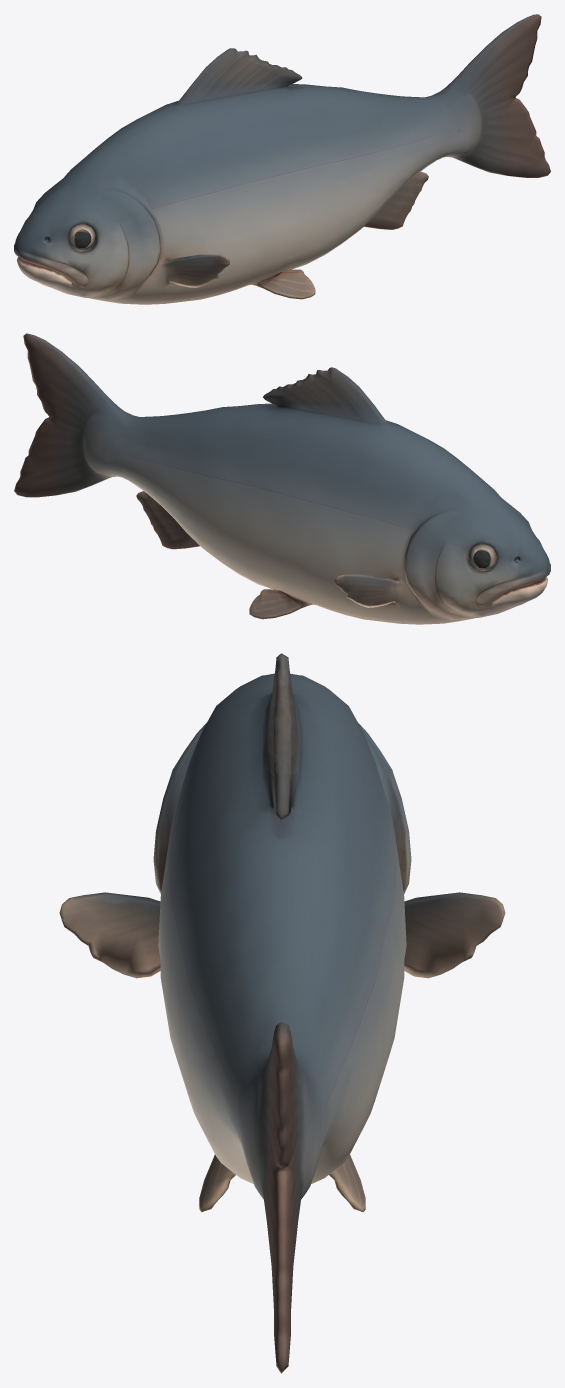
Rendered from Pescado.fbx.
3 views of the same model, one above another, from view 1: azimuth 30°, elevation 25°; view 2: azimuth 150°, elevation 25°; view 3: azimuth 270°, elevation 25° (orthographic). The views are drawn at different scales.
Parts seen in each view (by area): view 1: Pescado; view 2: Pescado; view 3: Pescado.
Boxes of the visible parts, x1,y1,x2,y2 form: Pescado: (14, 14, 550, 304); Pescado: (14, 333, 550, 624); Pescado: (59, 653, 505, 1373).
Size of the model in its own units: 0.998 by 0.4434 by 0.3613.
